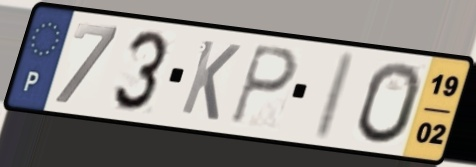3: (110, 28, 173, 115)
7: (53, 20, 122, 106)
I: (308, 48, 360, 143)
K: (176, 36, 244, 124)
O: (354, 59, 424, 147)
P: (228, 41, 300, 127)
